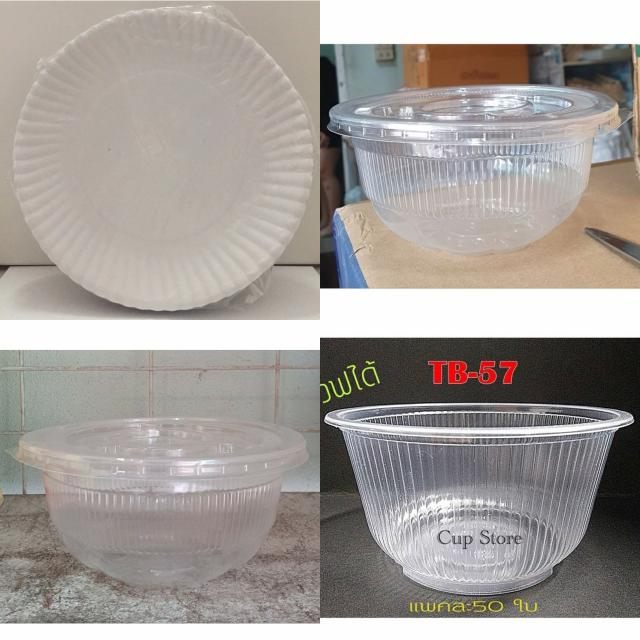Single-Use-Plastic: (14, 6, 314, 311), (325, 404, 634, 594), (330, 85, 629, 255), (11, 418, 308, 588)
